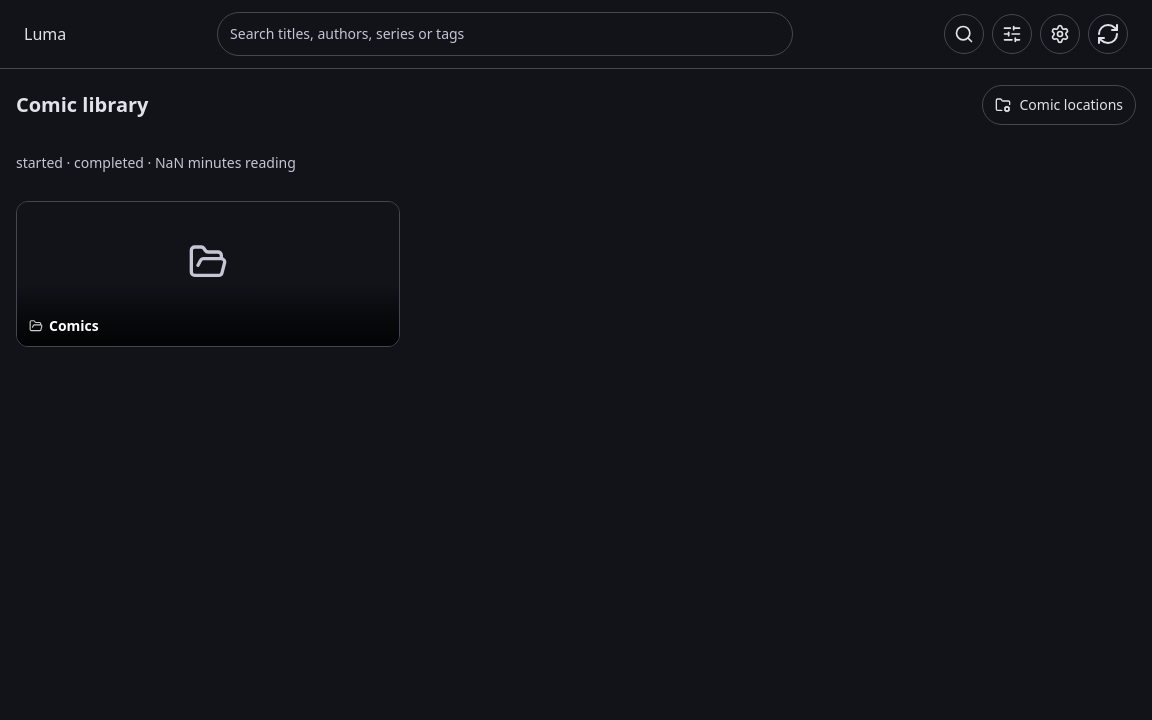
falls back to reading order for a damaged saved preference
Click the button named "Filters": (1012, 34) [992,14,1032,54]
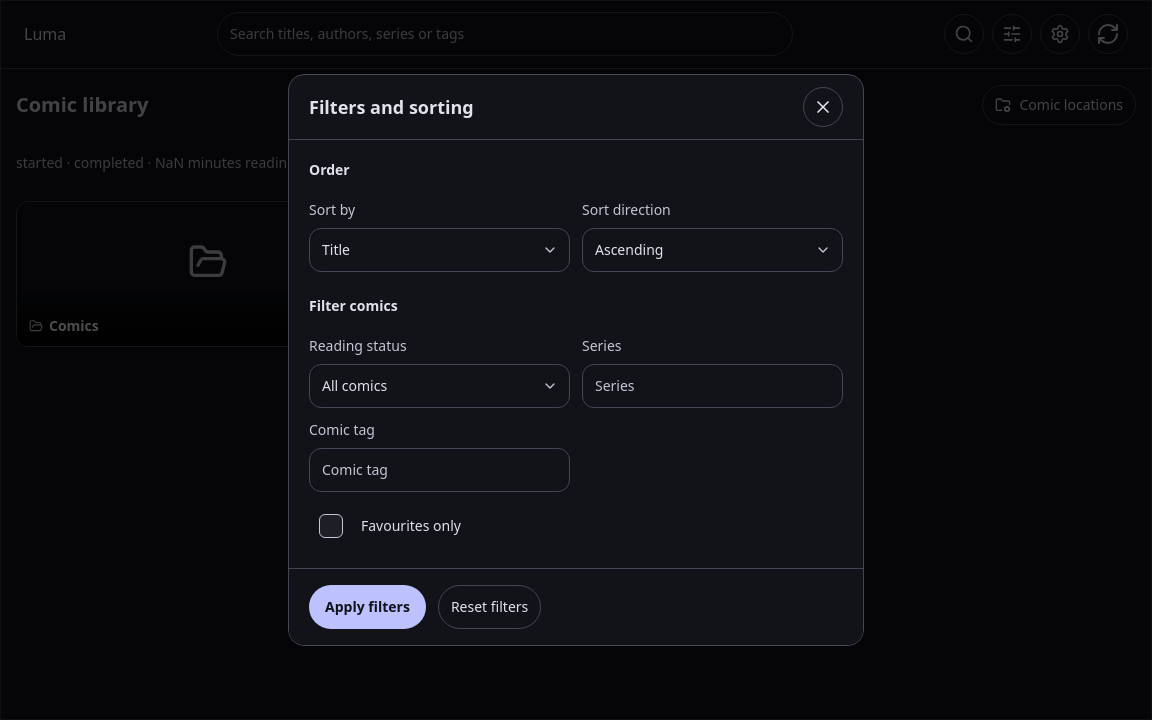
Now the dropdown labelled "Sort by" shows "Title", box [309,228,570,272]
Now the dropdown labelled "Sort direction" shows "Ascending", box [582,228,843,272]
